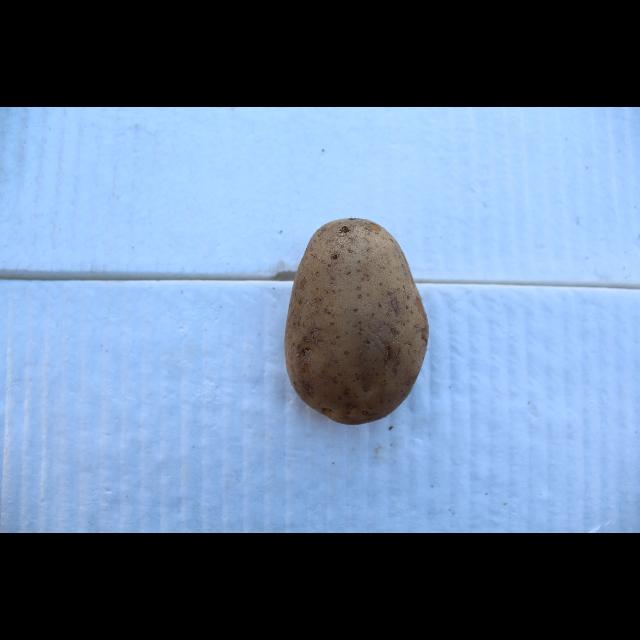Diseased-fungal potato: (286, 212, 436, 432)
